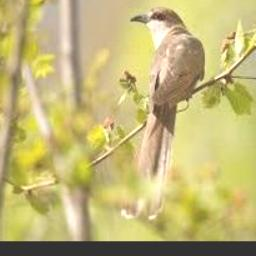Cuckoo: (122, 6, 206, 219)
